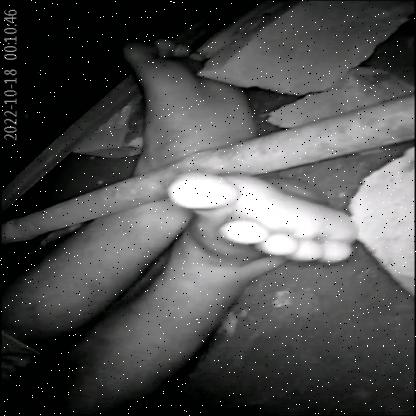leg: (112, 161, 378, 404), (6, 27, 270, 187)
